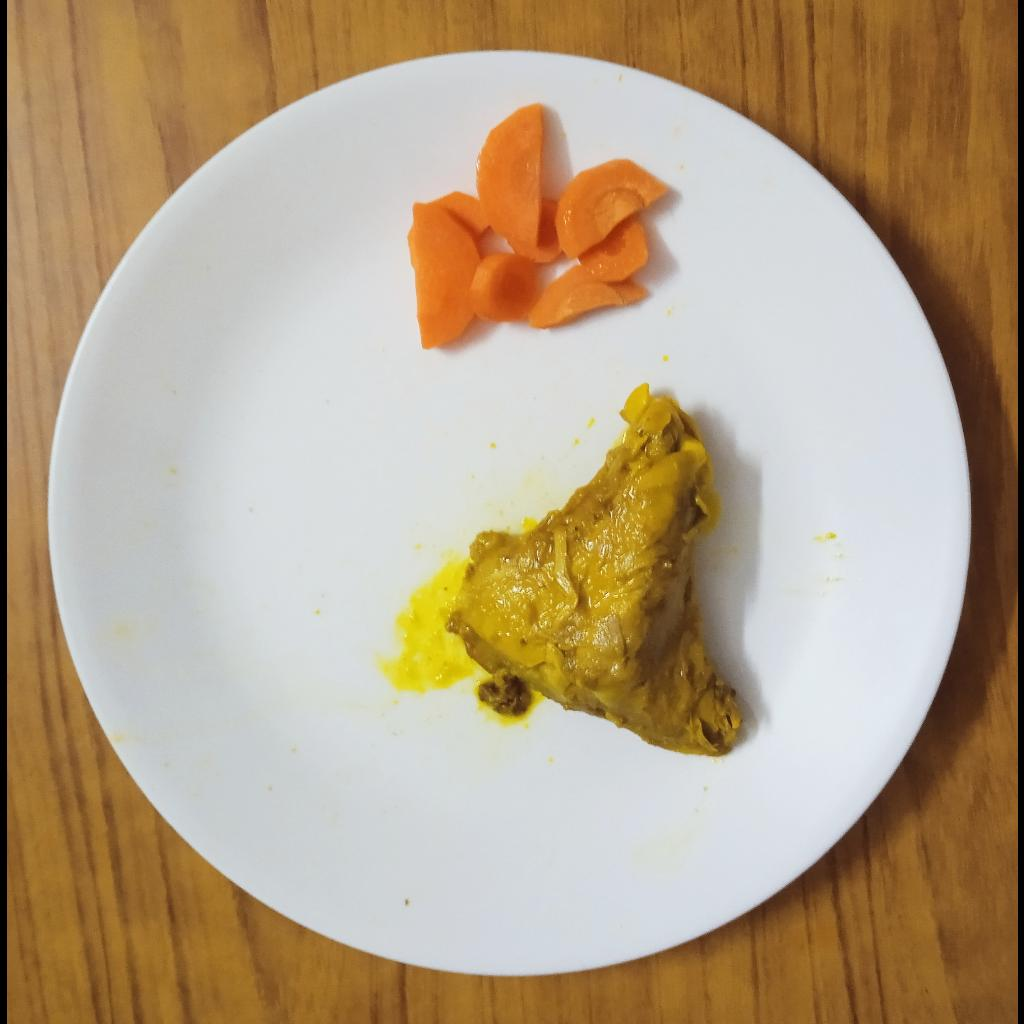carrot: (410, 104, 672, 349)
chicken: (445, 382, 743, 757)
